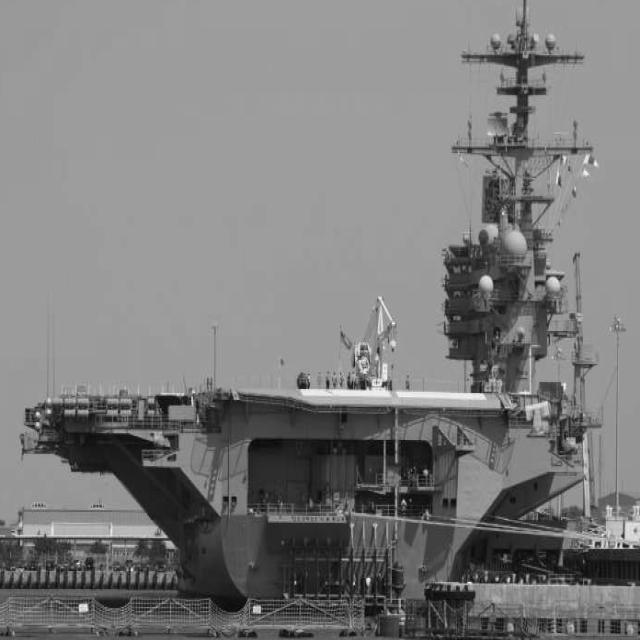Portanaves: (20, 1, 606, 618)
